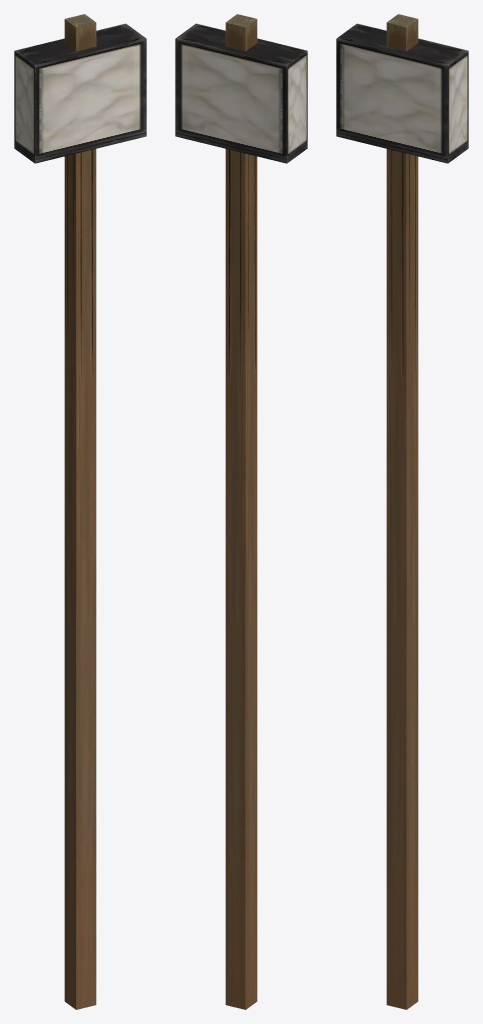
File: mun_all_imprv_streetlamp_lg_s02_l3.fbx
3 renders of one model, left to right at view 1: azimuth 30°, elevation 25°; view 2: azimuth 150°, elevation 25°; view 3: azimuth 330°, elevation 25°, orthographic.
Visible parts, largest first — view 1: mesh_node; view 2: mesh_node; view 3: mesh_node.
Boxes of the visible parts, x1,y1,x2,y2 form: mesh_node: (14, 14, 146, 1009); mesh_node: (175, 14, 307, 1009); mesh_node: (336, 14, 468, 1009).
Bounding box in the file's own units: 0.4806 × 4.04 × 0.155.
